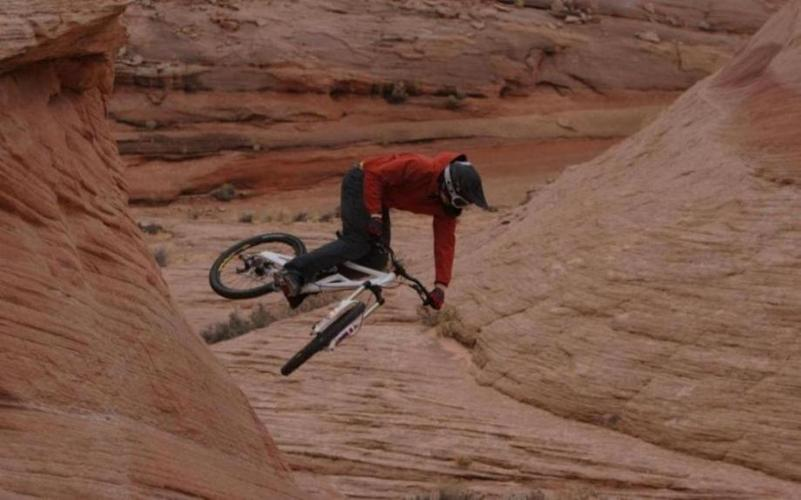person: (274, 149, 490, 313)
